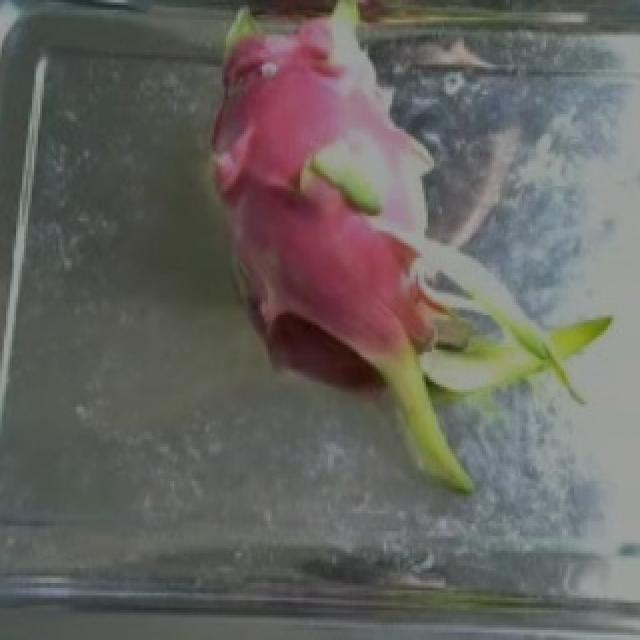fruit: (196, 72, 622, 511)
